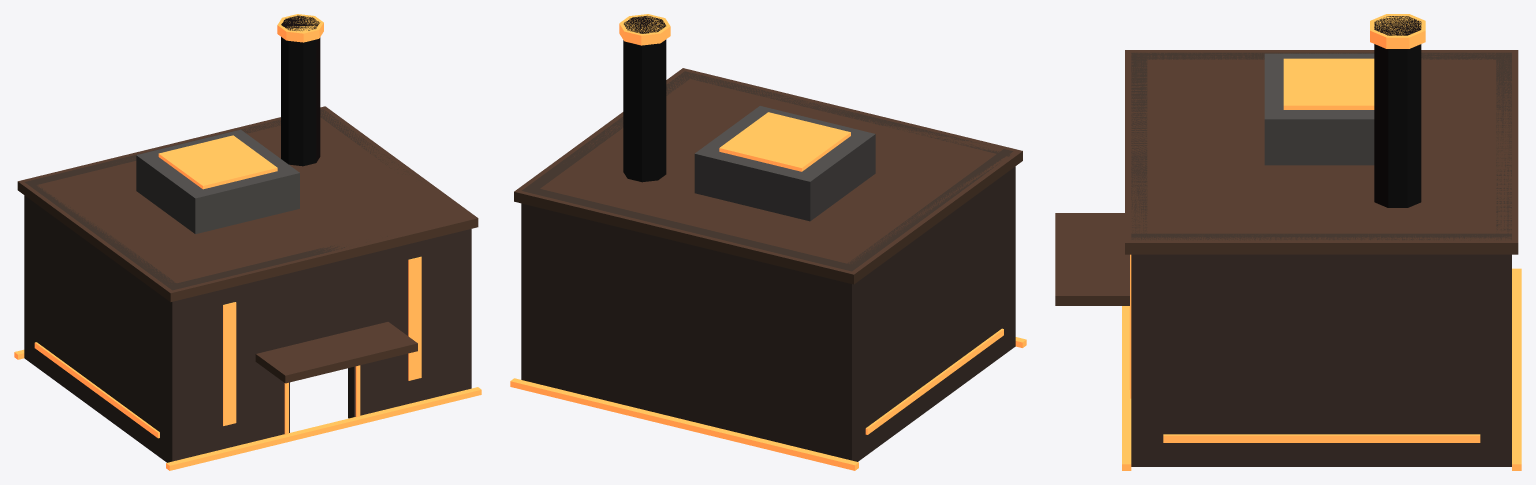
Rendered from shaddai_dist_volcano_b2_v01.glb.
3 renders of one model, left to right at view 1: azimuth 30°, elevation 25°; view 2: azimuth 150°, elevation 25°; view 3: azimuth 270°, elevation 25°, orthographic. The views are drawn at different scales.
Visible parts, largest first — view 1: shaddai_dist_volcano_b2; view 2: shaddai_dist_volcano_b2; view 3: shaddai_dist_volcano_b2.
Boxes of the visible parts, x1,y1,x2,y2 form: shaddai_dist_volcano_b2: (14,14,481,470); shaddai_dist_volcano_b2: (510,14,1026,470); shaddai_dist_volcano_b2: (1055,14,1521,470).
Size of the model in its own units: 14.6 by 13.88 by 14.7.
